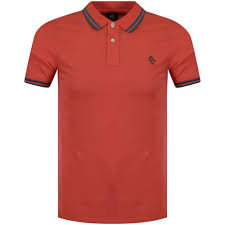T-Shirt: (22, 1, 206, 223)
